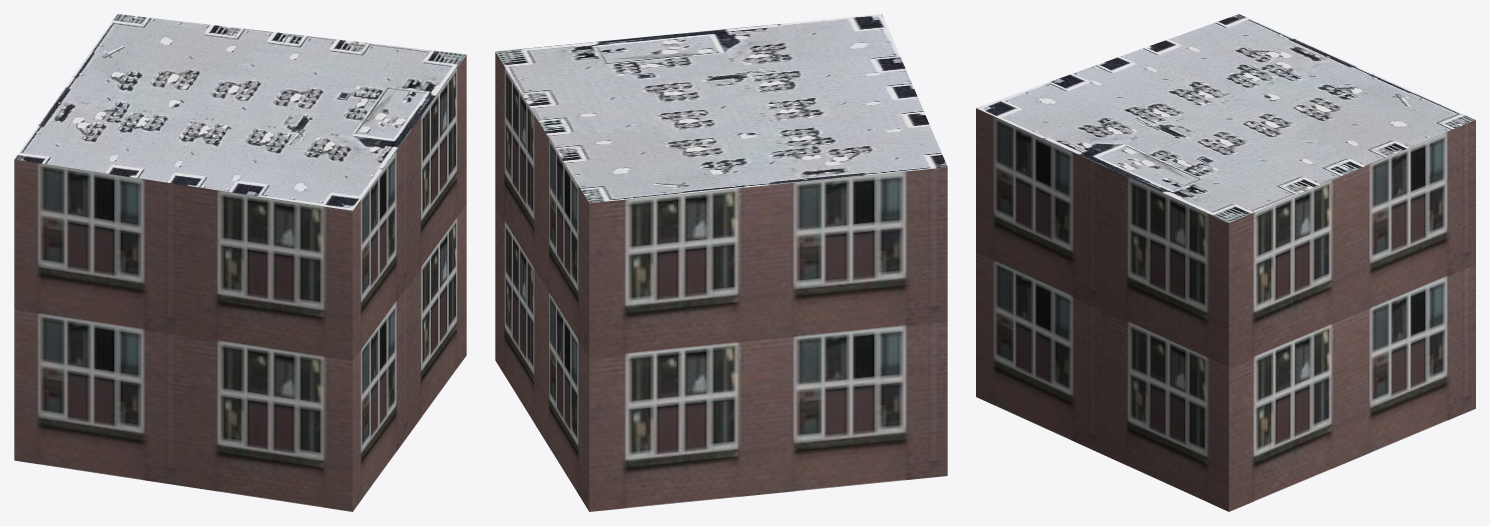
File: ResTex__4153.fbx
3 renders of one model, left to right at view 1: azimuth 30°, elevation 25°; view 2: azimuth 150°, elevation 25°; view 3: azimuth 270°, elevation 25°, orthographic. The views are drawn at different scales.
Visible parts, largest first — view 1: CityEngineMaterial_12_m, CityEngineMaterial_4_m; view 2: CityEngineMaterial_12_m, CityEngineMaterial_4_m; view 3: CityEngineMaterial_12_m, CityEngineMaterial_4_m.
Boxes of the visible parts, left/top/right/bottom form: CityEngineMaterial_12_m: left=14, top=55, right=466, bottom=511; CityEngineMaterial_4_m: left=14, top=14, right=466, bottom=210; CityEngineMaterial_12_m: left=495, top=52, right=947, bottom=511; CityEngineMaterial_4_m: left=495, top=14, right=947, bottom=203; CityEngineMaterial_12_m: left=976, top=108, right=1475, bottom=511; CityEngineMaterial_4_m: left=976, top=14, right=1475, bottom=222.
Bounding box in the file's own units: 9.32 × 6 × 9.41.
Materials: 2 (2 with a texture image).
